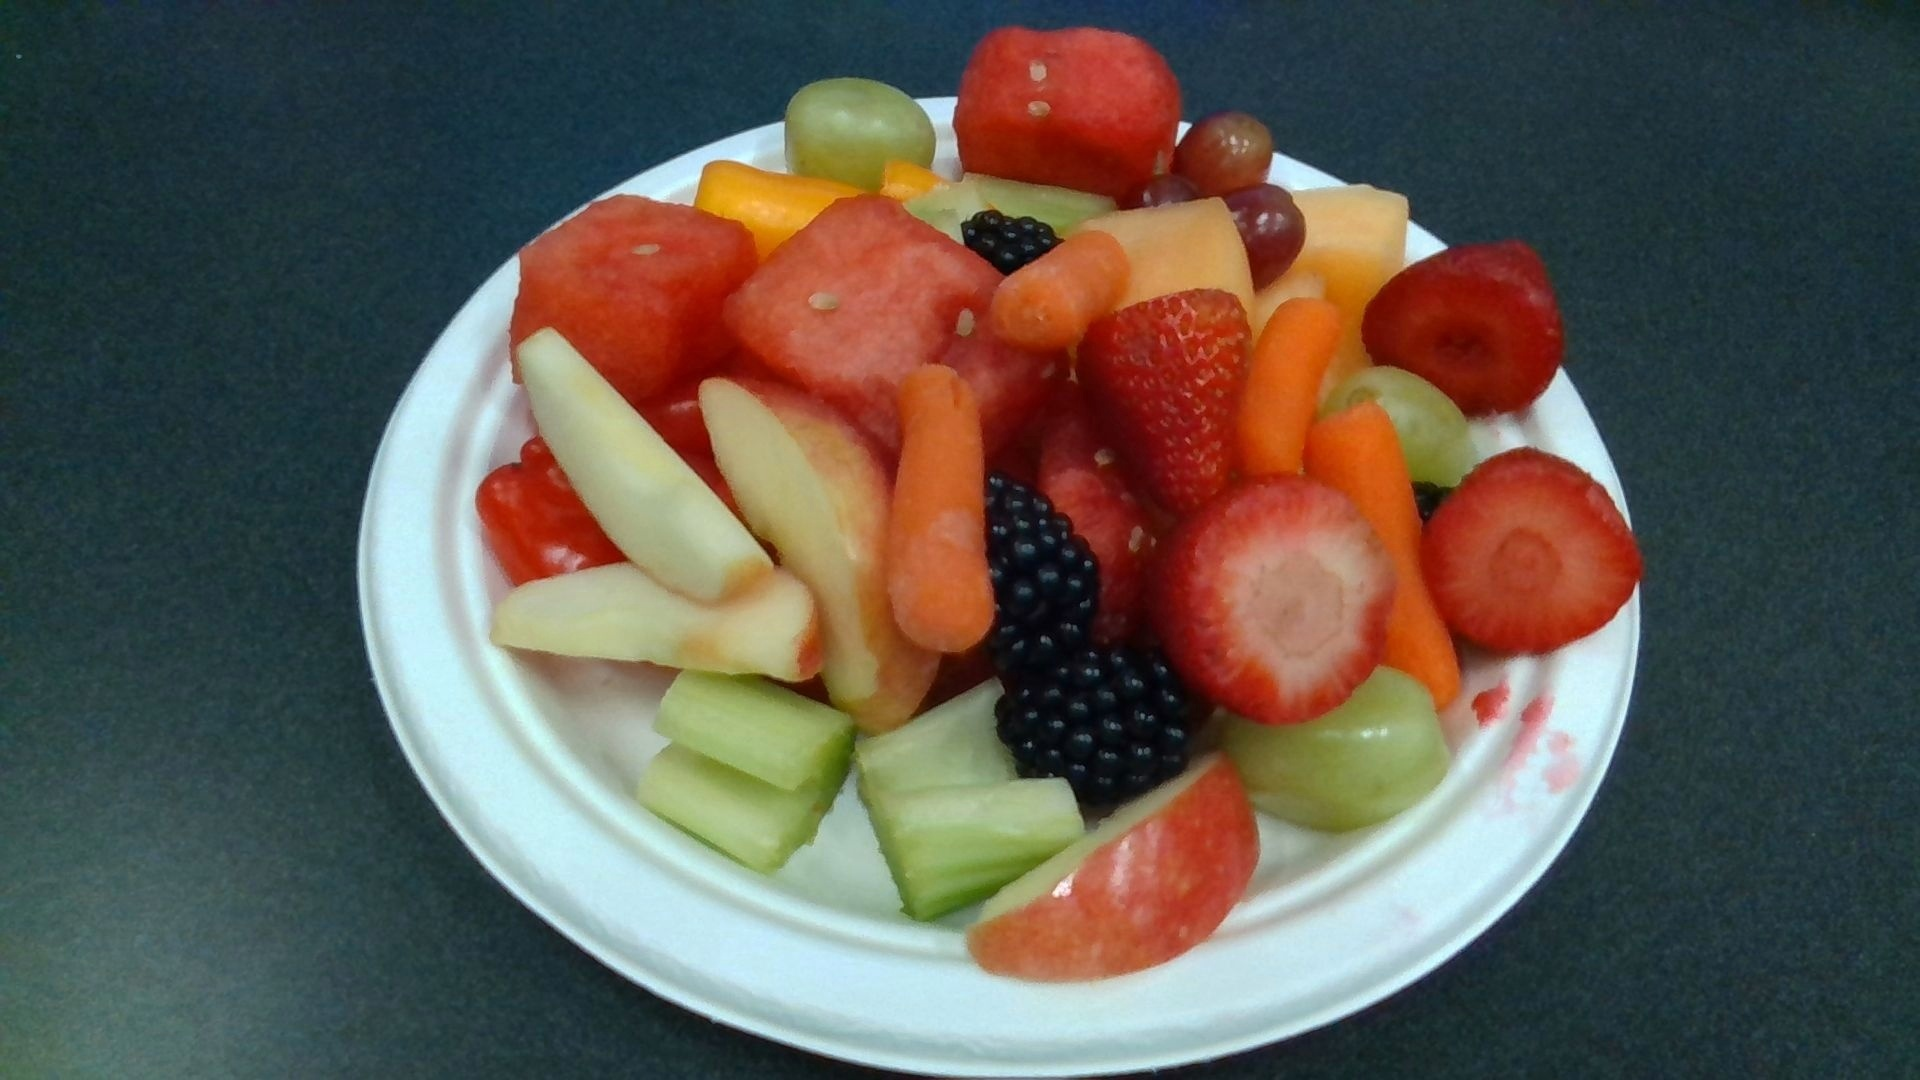apple: (698, 376, 939, 735), (514, 326, 774, 600), (965, 752, 1261, 980), (491, 560, 825, 680)
blackberry: (997, 655, 1205, 796)
cantalope: (1069, 198, 1251, 310)
carrot: (1304, 401, 1460, 705), (887, 367, 996, 653), (1240, 301, 1340, 476), (992, 233, 1131, 343)
celery: (852, 678, 1087, 916), (642, 670, 855, 872)
grape_green: (1226, 669, 1452, 829), (785, 75, 932, 186)
grape_purple: (1175, 113, 1273, 195)
melon: (725, 193, 1007, 426), (520, 198, 754, 400), (953, 26, 1178, 191)
strawberry: (1149, 480, 1394, 723), (1420, 451, 1642, 647), (1077, 291, 1250, 520), (1364, 241, 1564, 418)
